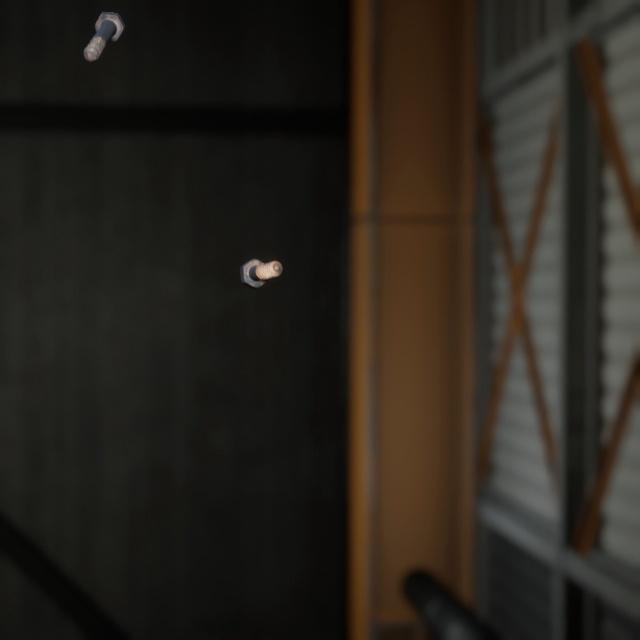bolt: (78, 0, 129, 57), (235, 237, 286, 276)
